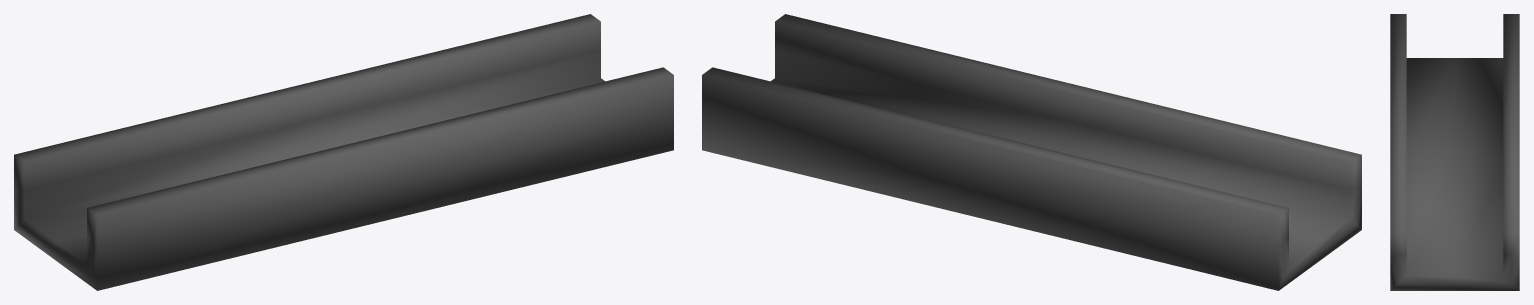
The picture shows the model from 3 angles, left to right: view 1: azimuth 30°, elevation 25°; view 2: azimuth 150°, elevation 25°; view 3: azimuth 270°, elevation 25°; orthographic projection. The views are drawn at different scales.
Parts seen in each view (by area): view 1: defaultobject; view 2: defaultobject; view 3: defaultobject.
Boxes of the visible parts, x1=… form: defaultobject: x1=14, y1=14, x2=673, y2=290; defaultobject: x1=702, y1=14, x2=1361, y2=290; defaultobject: x1=1390, y1=14, x2=1519, y2=290.
Size of the model in its own units: 1 by 0.125 by 0.25.
1 material, 1 textured.
